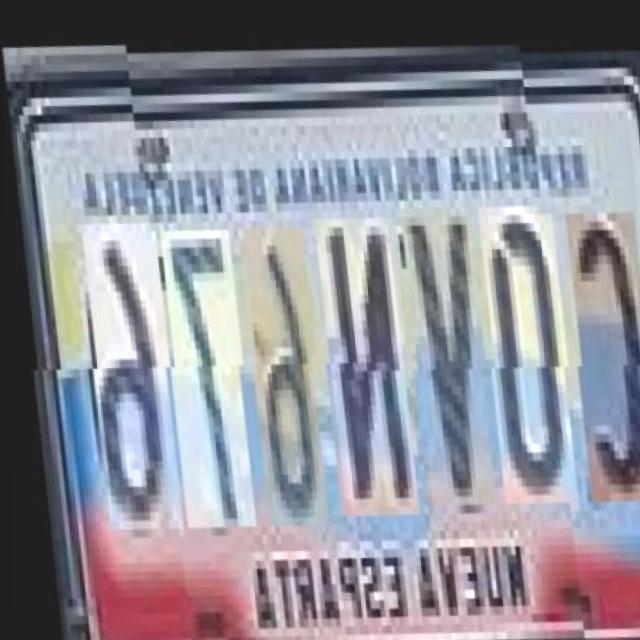0: (470, 192, 568, 498)
6: (73, 217, 173, 531), (233, 215, 319, 519)
7: (151, 216, 245, 520)
c: (557, 191, 640, 487)
n: (305, 204, 409, 510)
v: (392, 194, 486, 498)
